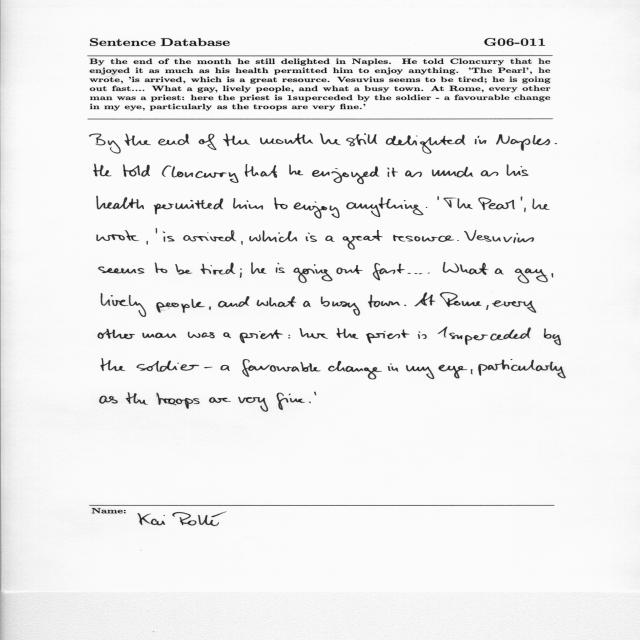word: (438, 327, 531, 345), (478, 359, 566, 378), (347, 197, 424, 217), (386, 135, 465, 154), (242, 359, 321, 377), (162, 165, 238, 183), (312, 166, 379, 184), (154, 199, 223, 215), (101, 293, 146, 317), (328, 361, 382, 379), (496, 134, 550, 151), (464, 230, 534, 243), (294, 202, 340, 219), (343, 230, 383, 249), (294, 264, 333, 283), (321, 297, 360, 316), (137, 361, 200, 372), (157, 393, 200, 409), (156, 299, 205, 313), (89, 134, 121, 154), (183, 230, 236, 242), (366, 330, 410, 344), (440, 292, 481, 307), (97, 196, 144, 209), (443, 262, 488, 275), (260, 134, 313, 145), (492, 300, 536, 313), (240, 330, 283, 343), (373, 263, 405, 280), (249, 231, 298, 242), (515, 269, 548, 284), (478, 197, 515, 210), (277, 393, 305, 410), (97, 230, 139, 241), (201, 262, 236, 275), (238, 397, 268, 412), (245, 164, 277, 178), (257, 297, 296, 308), (393, 235, 454, 242), (368, 295, 400, 308), (432, 167, 473, 177), (439, 365, 468, 379), (346, 134, 377, 147), (406, 365, 434, 379), (218, 296, 249, 308), (98, 329, 135, 339), (99, 266, 145, 274), (233, 198, 263, 210), (123, 164, 150, 177), (158, 134, 189, 145), (443, 198, 473, 209), (101, 358, 126, 371), (124, 134, 151, 146), (223, 134, 250, 146), (300, 328, 328, 339), (415, 293, 436, 307), (544, 329, 561, 346), (126, 392, 148, 405), (199, 134, 216, 150), (336, 265, 363, 274), (507, 165, 529, 176), (337, 328, 359, 339), (94, 164, 112, 177), (320, 134, 341, 145), (532, 199, 550, 210), (274, 197, 288, 210), (252, 262, 267, 274), (142, 333, 177, 338), (175, 264, 192, 274), (188, 332, 215, 338), (100, 396, 118, 404), (289, 165, 303, 175), (163, 231, 175, 242), (209, 397, 231, 403), (481, 170, 499, 177), (155, 263, 167, 273), (405, 171, 422, 178), (306, 232, 317, 242), (387, 168, 398, 177), (276, 263, 285, 273), (388, 363, 398, 372), (475, 136, 486, 144), (418, 332, 427, 339), (325, 236, 335, 242), (495, 269, 504, 275), (221, 365, 230, 371), (303, 301, 311, 307), (224, 332, 232, 338), (240, 268, 242, 278), (408, 273, 423, 274), (486, 305, 489, 310), (552, 273, 554, 278), (437, 196, 439, 200), (524, 208, 526, 212), (241, 241, 243, 245), (204, 367, 212, 368), (146, 241, 148, 244), (209, 307, 211, 310), (288, 335, 290, 338), (314, 392, 316, 395), (521, 196, 522, 201), (156, 229, 157, 234), (471, 369, 472, 374), (309, 402, 311, 404), (555, 143, 557, 144), (457, 240, 459, 241), (428, 273, 430, 274), (404, 305, 406, 306), (426, 207, 427, 208)
